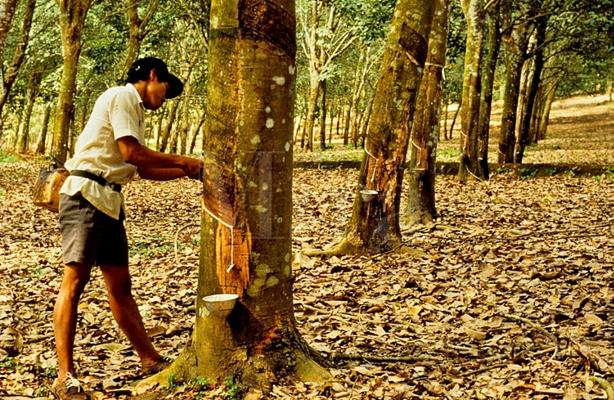person: (43, 56, 206, 400)
